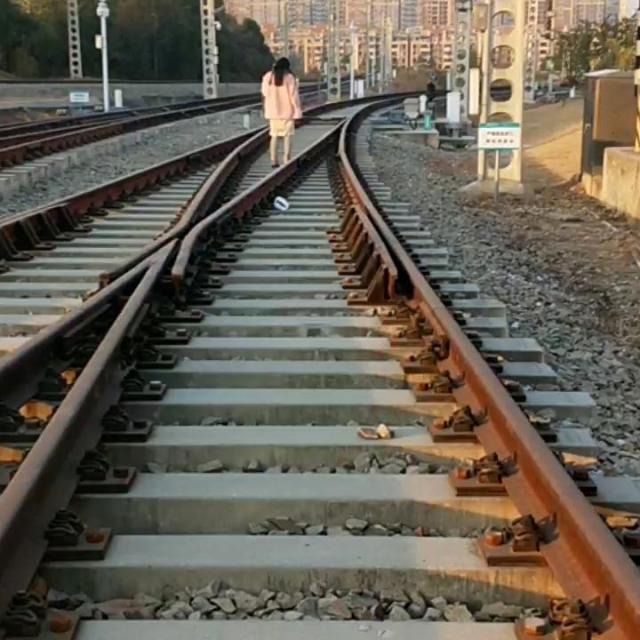danger: (259, 51, 306, 173)
rail: (338, 123, 640, 640), (0, 242, 177, 630), (0, 123, 269, 249), (170, 115, 347, 283), (109, 129, 271, 278), (0, 93, 263, 168), (303, 91, 425, 116), (297, 83, 328, 94)
